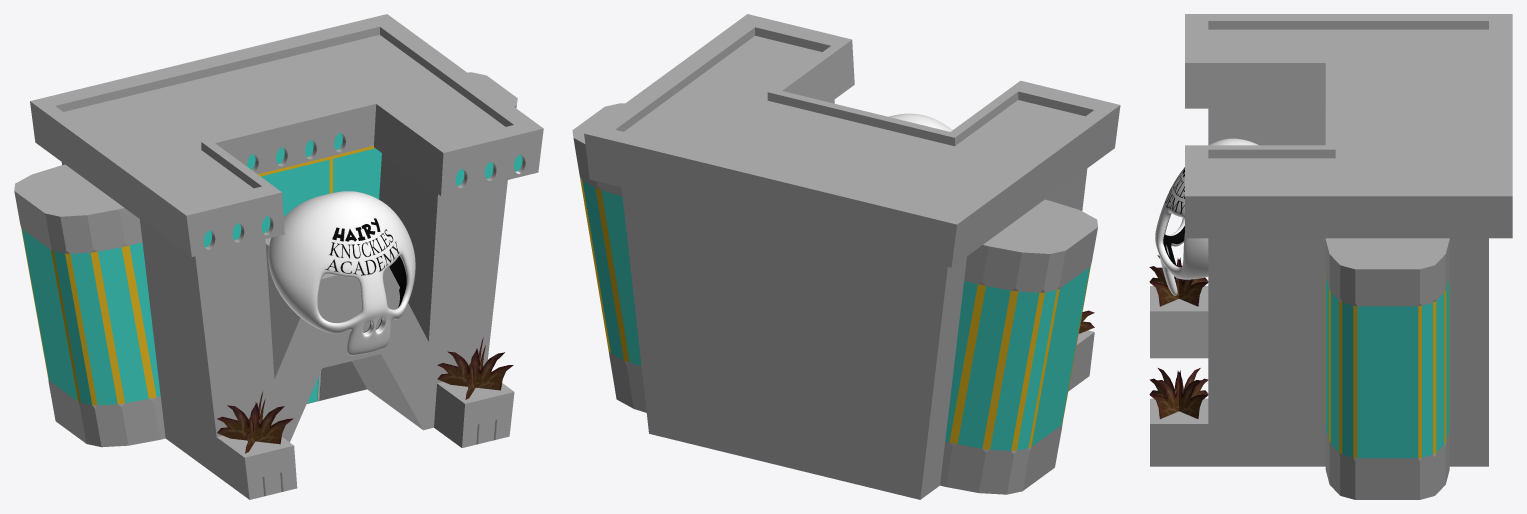
Rendered from Academy.obj.
3 renders of one model, left to right at view 1: azimuth 30°, elevation 25°; view 2: azimuth 150°, elevation 25°; view 3: azimuth 270°, elevation 25°, orthographic. The views are drawn at different scales.
Parts seen in each view (by area): view 1: Cube, Sphere, Plane.002; view 2: Cube; view 3: Cube, Sphere, Plane.002.
Part boxes in pixels (x1,y1,x2,y2): Cube: (14,14,543,499); Sphere: (268,191,415,355); Plane.002: (217,337,513,453); Cube: (572,14,1120,499); Cube: (1150,14,1512,499); Sphere: (1155,138,1258,295); Plane.002: (1149,255,1208,418).
Bounding box in the file's own units: 24.36 × 13.96 × 15.5.
